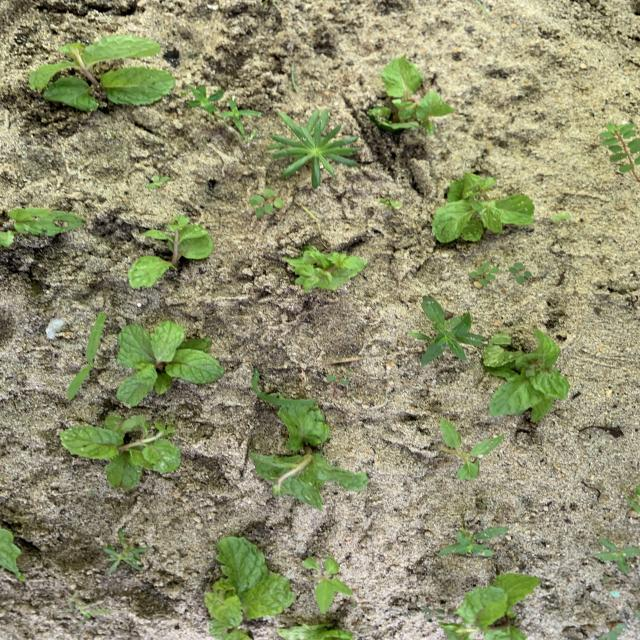crop: (252, 402, 367, 509), (29, 36, 174, 110), (116, 321, 223, 406), (207, 536, 294, 637), (61, 416, 179, 489), (482, 328, 569, 420), (432, 173, 534, 242), (440, 574, 539, 639), (374, 56, 454, 135), (129, 216, 212, 287), (285, 246, 365, 291), (1, 208, 83, 246), (278, 623, 354, 640), (1, 528, 23, 579)
weed: (270, 110, 358, 187), (410, 297, 488, 364), (433, 419, 503, 479), (68, 313, 105, 398), (302, 557, 352, 614), (252, 368, 314, 407), (600, 123, 639, 180), (439, 527, 509, 557), (219, 98, 261, 137), (106, 533, 146, 573), (596, 538, 639, 573), (187, 85, 222, 113), (250, 188, 283, 215), (470, 262, 499, 285), (422, 594, 444, 619), (509, 262, 531, 282), (598, 624, 624, 639), (325, 375, 349, 387), (148, 176, 169, 187), (380, 198, 401, 208), (551, 214, 570, 220)
